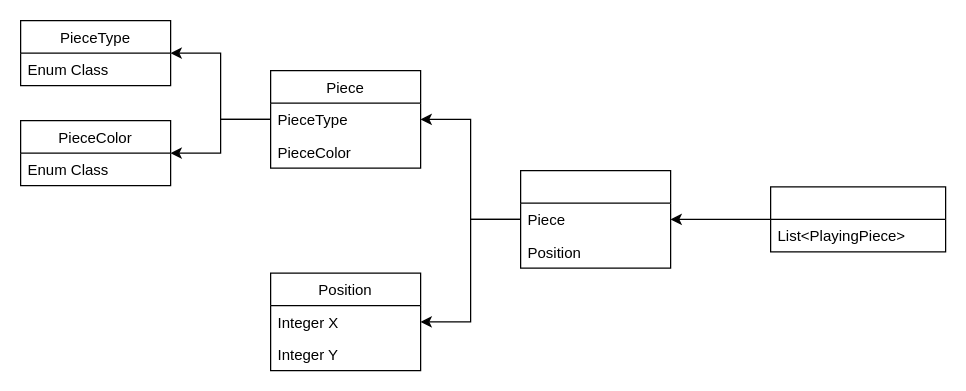
Some shapes in this 966 by 391 pixel diagram are drawn without their labels. The box of each missing label's shape, as (x1, y1, x2, y2) in pixels:
Board: (769, 186, 946, 252)
PlayingPiece: (519, 169, 671, 268)
